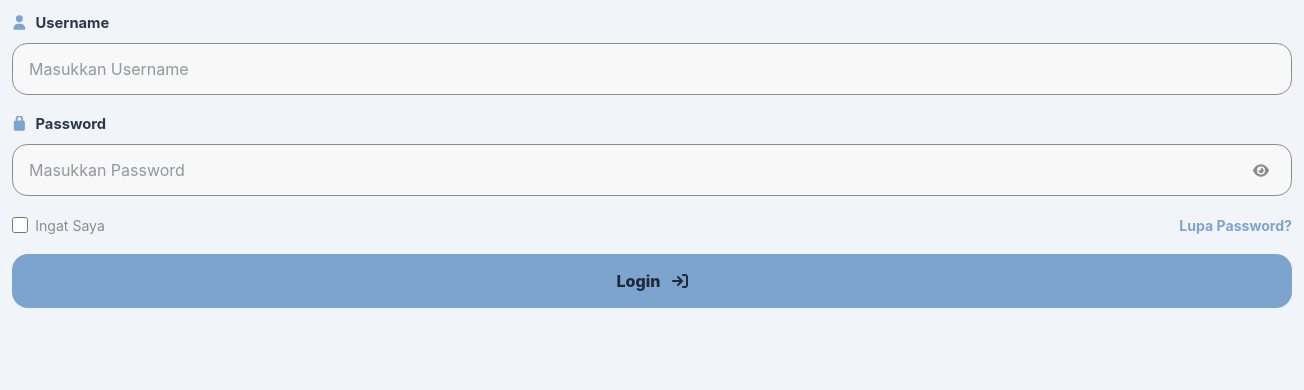
Test case: login components › shows validation message when username and password are empty
The image size is (1304, 390).
Step 1. Click the button "Login" → [652, 281], box [12, 254, 1292, 308]
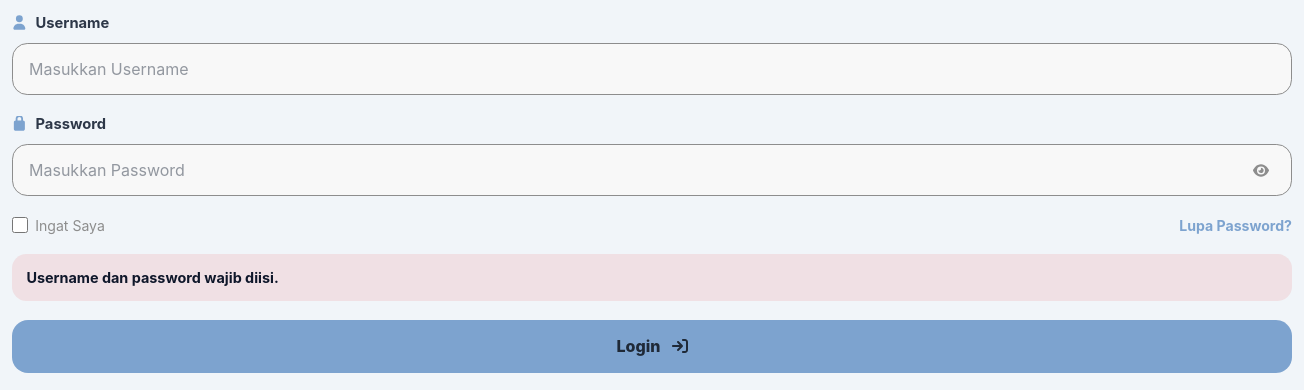
Expected: the text "Username dan password wajib diisi." is shown, [12, 254, 1292, 301]
